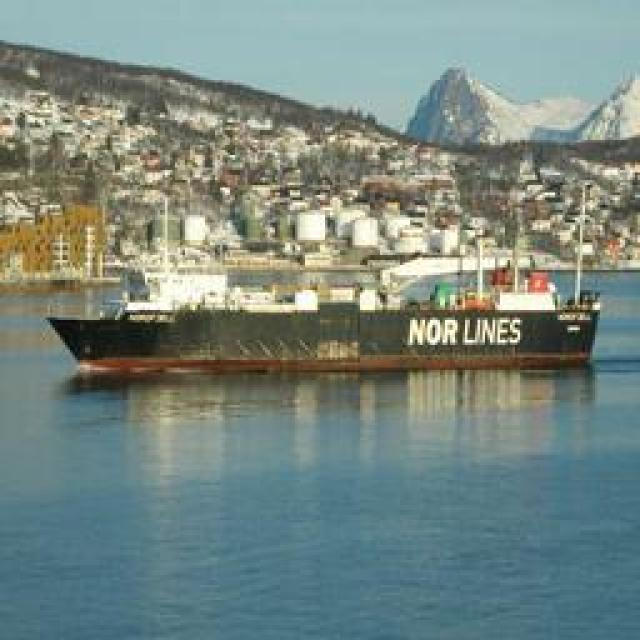ship2: (47, 181, 602, 375)
